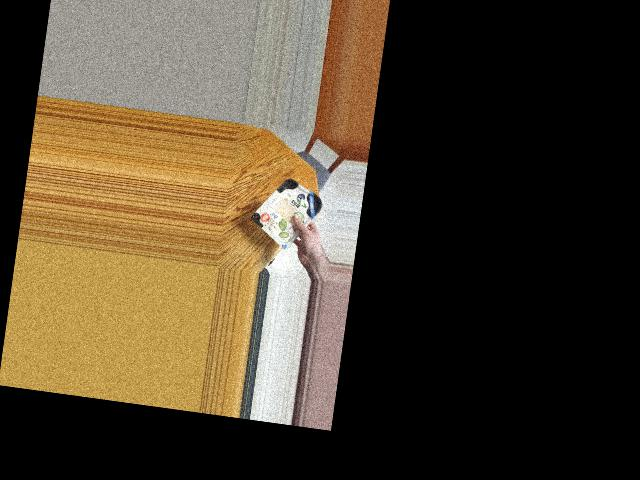cheese: (253, 177, 328, 243)
